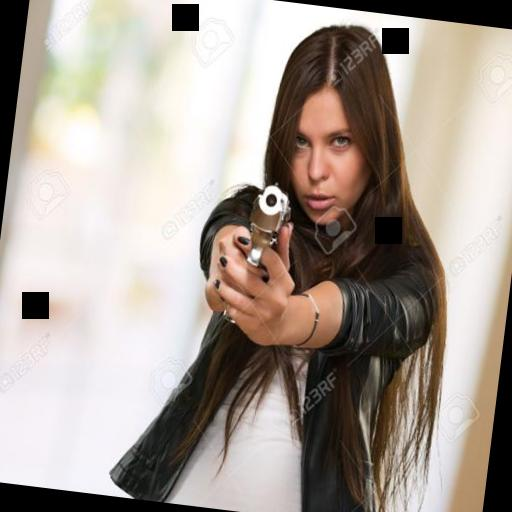Handgun: (210, 156, 296, 337)
